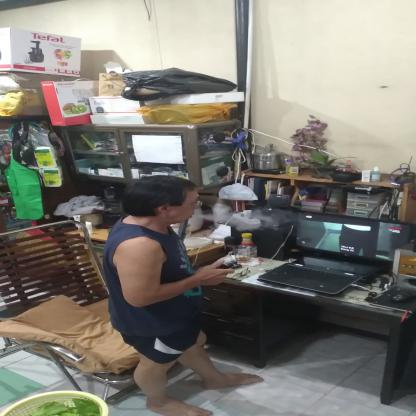person: (102, 174, 246, 412)
smoke: (260, 208, 290, 228), (230, 218, 249, 233)
